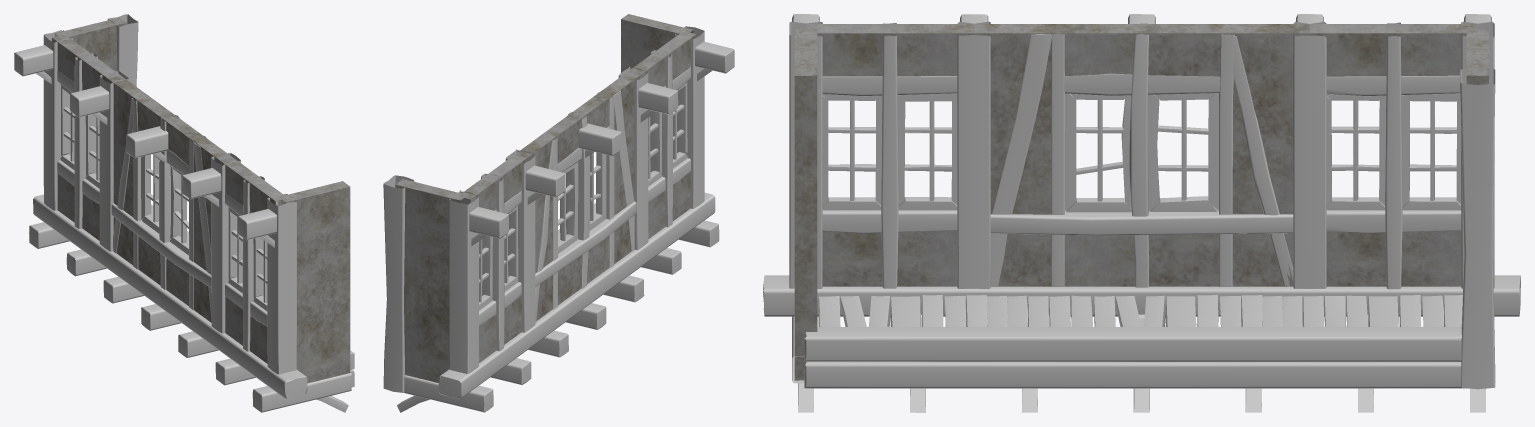
The model's file is SM_Extension05.fbx.
The picture shows the model from 3 angles, left to right: view 1: azimuth 30°, elevation 25°; view 2: azimuth 150°, elevation 25°; view 3: azimuth 270°, elevation 25°; orthographic projection. The views are drawn at different scales.
Visible parts, largest first — view 1: SM_Extension05_LOD0; view 2: SM_Extension05_LOD0; view 3: SM_Extension05_LOD0.
Part boxes in pixels (left/top/right/bottom): SM_Extension05_LOD0: left=14, top=14, right=354, bottom=412; SM_Extension05_LOD0: left=383, top=14, right=734, bottom=412; SM_Extension05_LOD0: left=763, top=14, right=1520, bottom=412.
Size of the model in its own units: 179 by 677 by 338.
